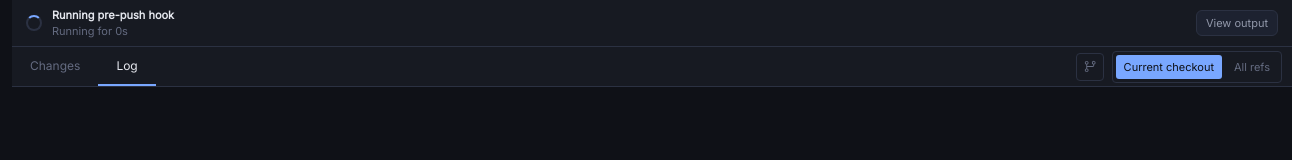
Test: CentrePanel hook feedback › shows push hook progress while the Log tab is active
Check: the message shows "Running pre-push hook", box left=52, top=8, right=174, bottom=22
Click the button "View output" at (1237, 23), box left=1196, top=10, right=1278, bottom=36
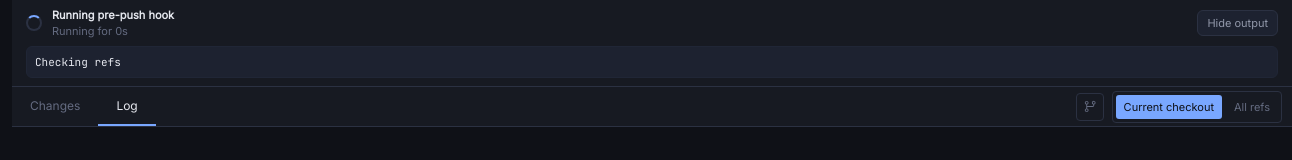
Check: the text "Checking refs" is shown, box left=26, top=46, right=1278, bottom=78
